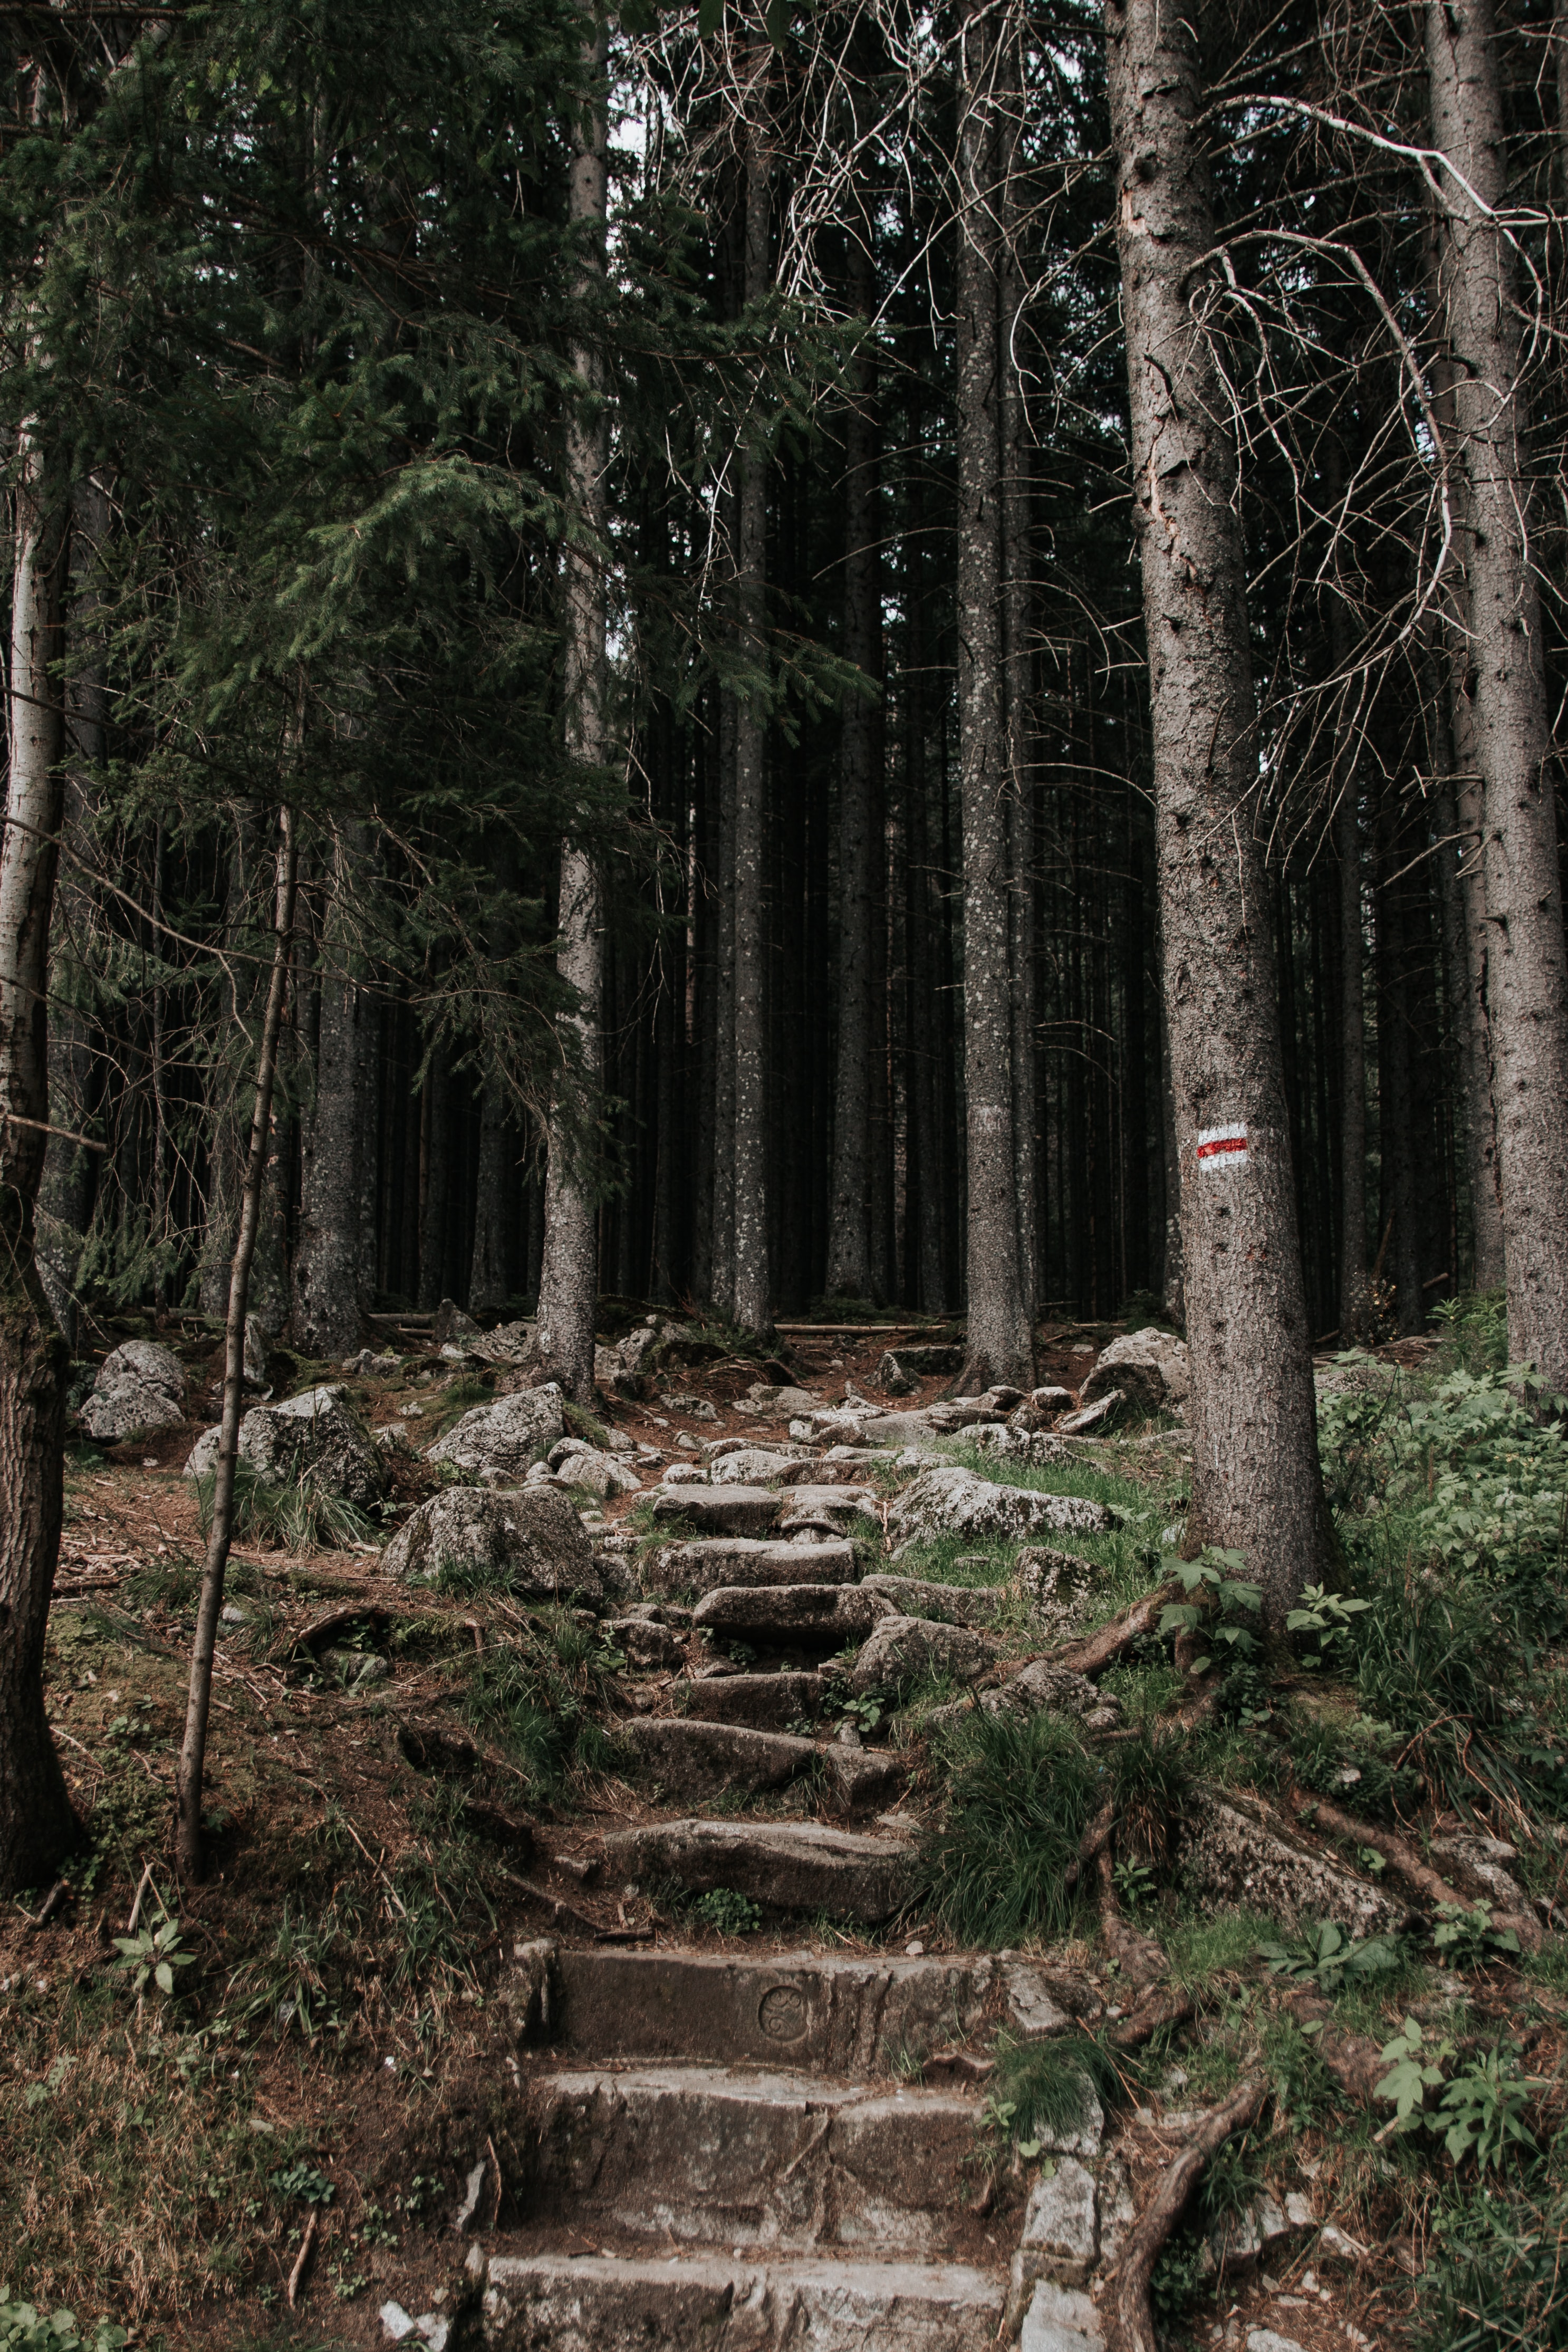upstairs: (572, 1923, 989, 2352)
